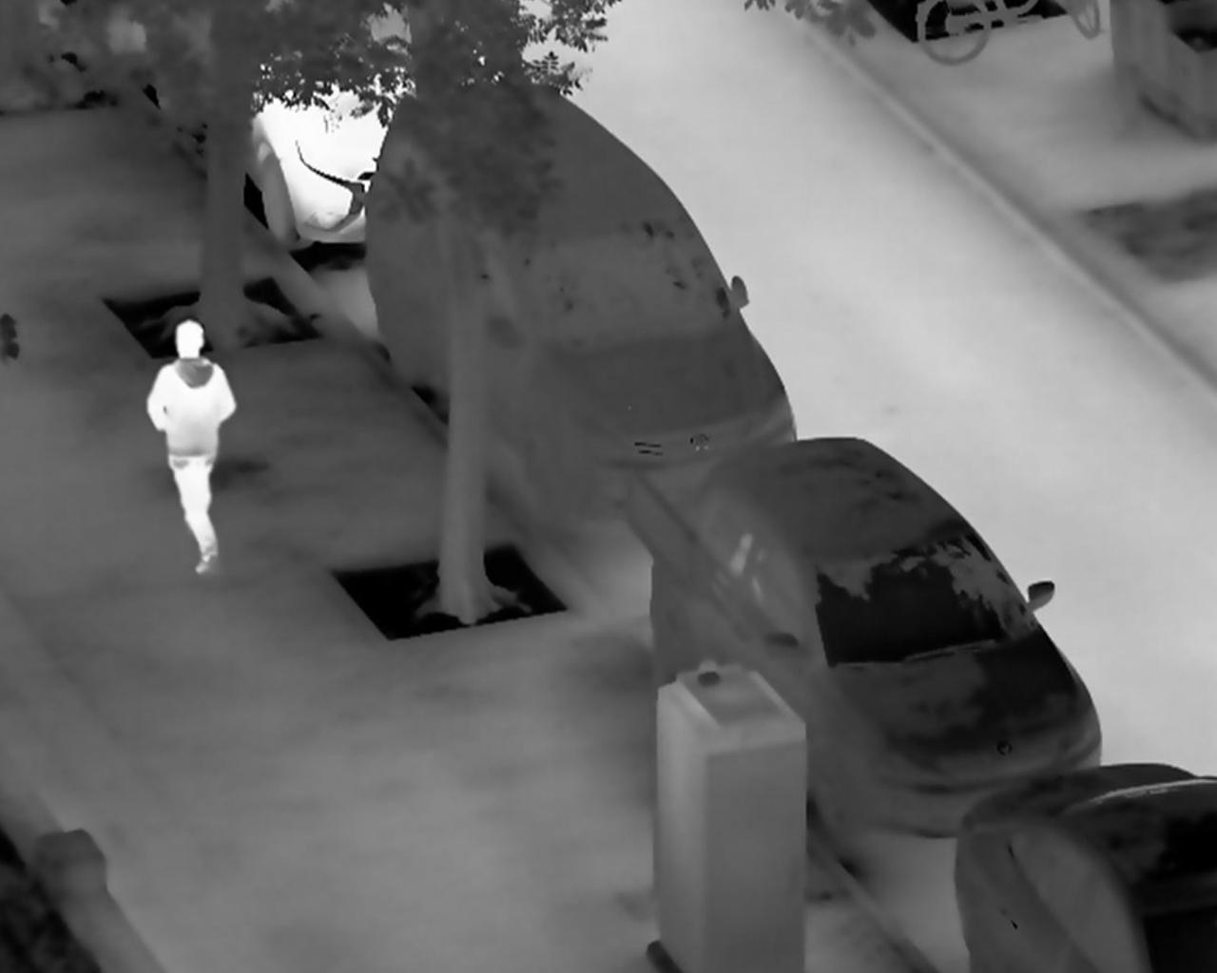person: (145, 317, 240, 578)
